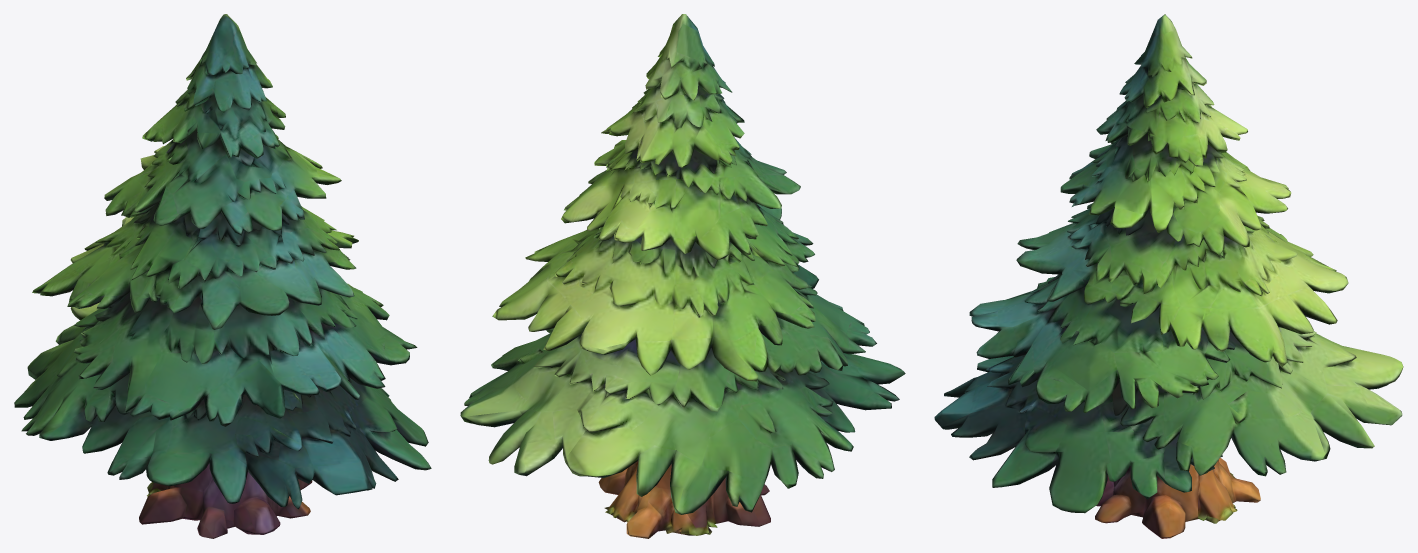
File: pine-high.glb
3 renders of one model, left to right at view 1: azimuth 30°, elevation 25°; view 2: azimuth 150°, elevation 25°; view 3: azimuth 270°, elevation 25°, orthographic.
Parts seen in each view (by area): view 1: tripo_node_1e5d5114-8726-4cf8-ba44-4395ba477c9d; view 2: tripo_node_1e5d5114-8726-4cf8-ba44-4395ba477c9d; view 3: tripo_node_1e5d5114-8726-4cf8-ba44-4395ba477c9d.
Part boxes in pixels (<box>): tripo_node_1e5d5114-8726-4cf8-ba44-4395ba477c9d: <box>14,14,431,538</box>; tripo_node_1e5d5114-8726-4cf8-ba44-4395ba477c9d: <box>460,14,905,538</box>; tripo_node_1e5d5114-8726-4cf8-ba44-4395ba477c9d: <box>934,14,1403,538</box>.
Size of the model in its own units: 0.7507 by 0.9974 by 0.8757.
1 material, 1 textured.
